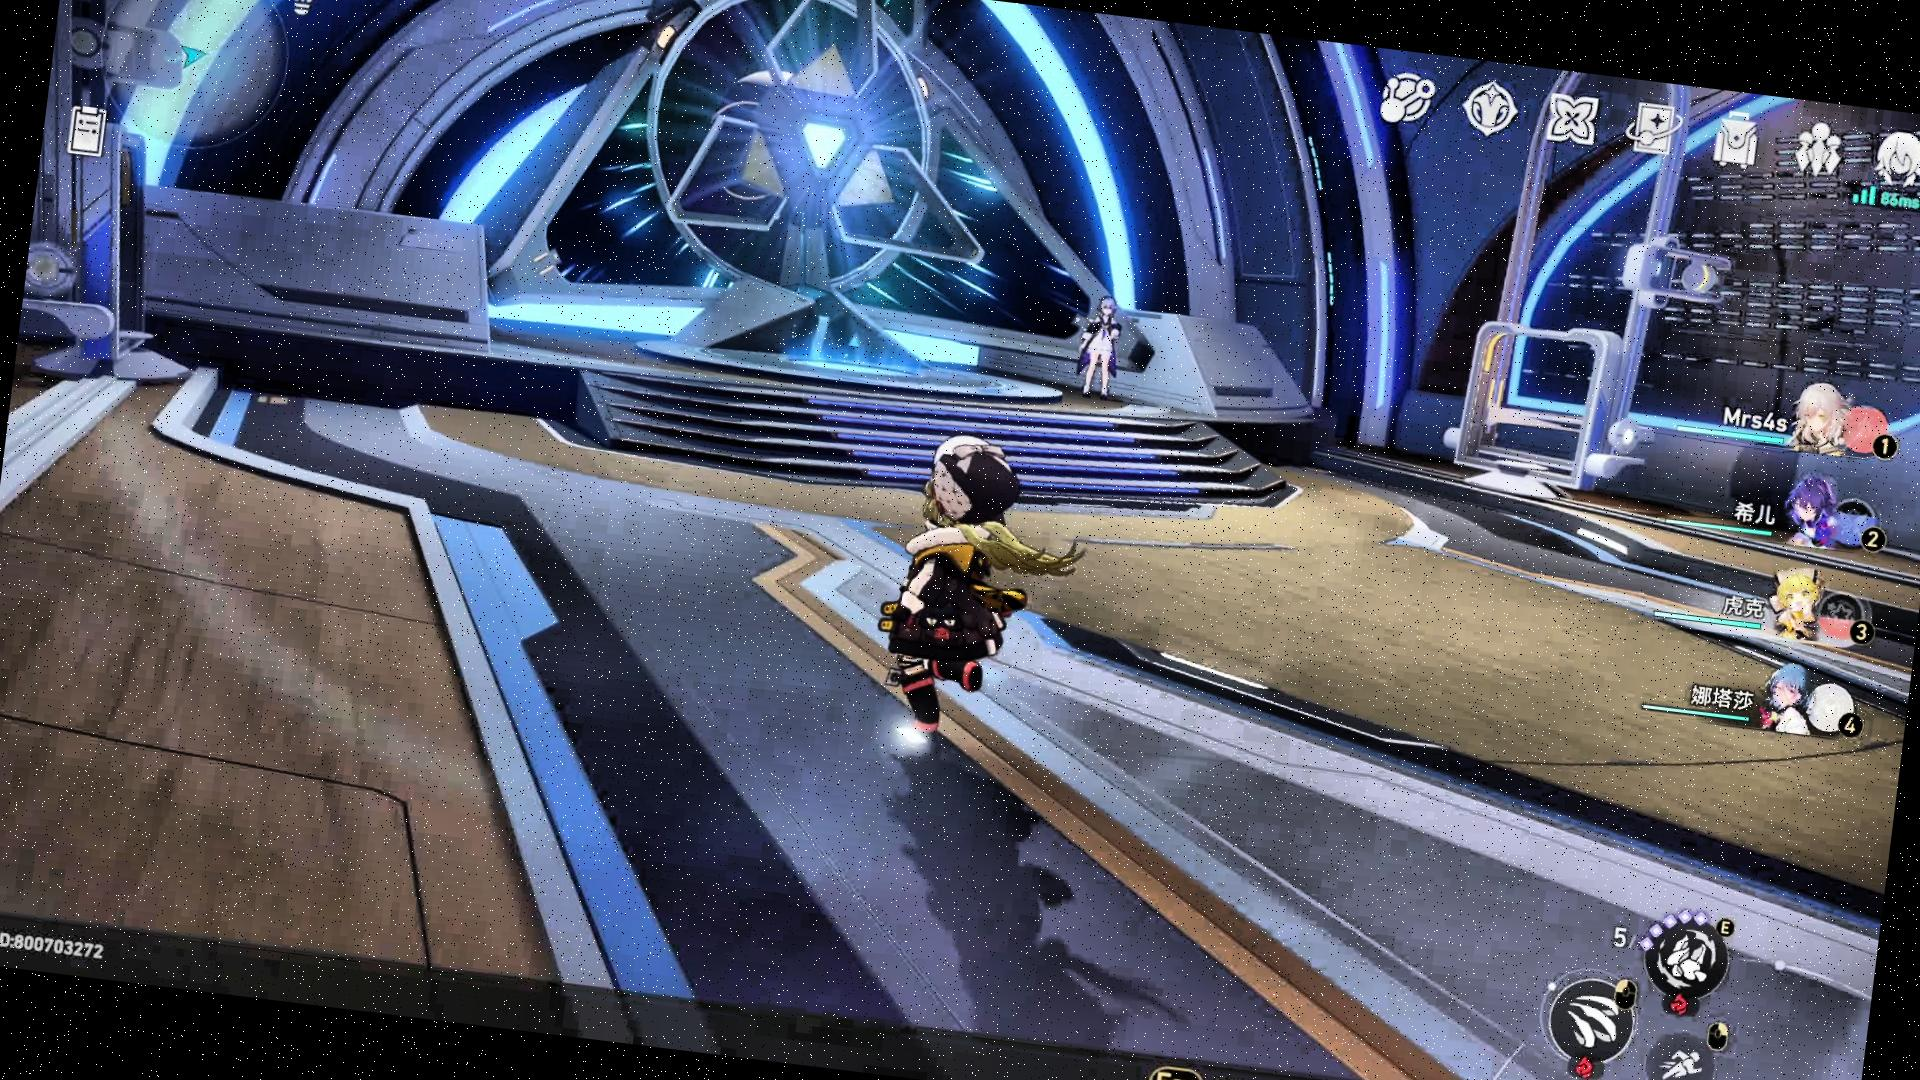Self: (869, 429, 1100, 756)
TeamMate: (1069, 294, 1126, 404)
